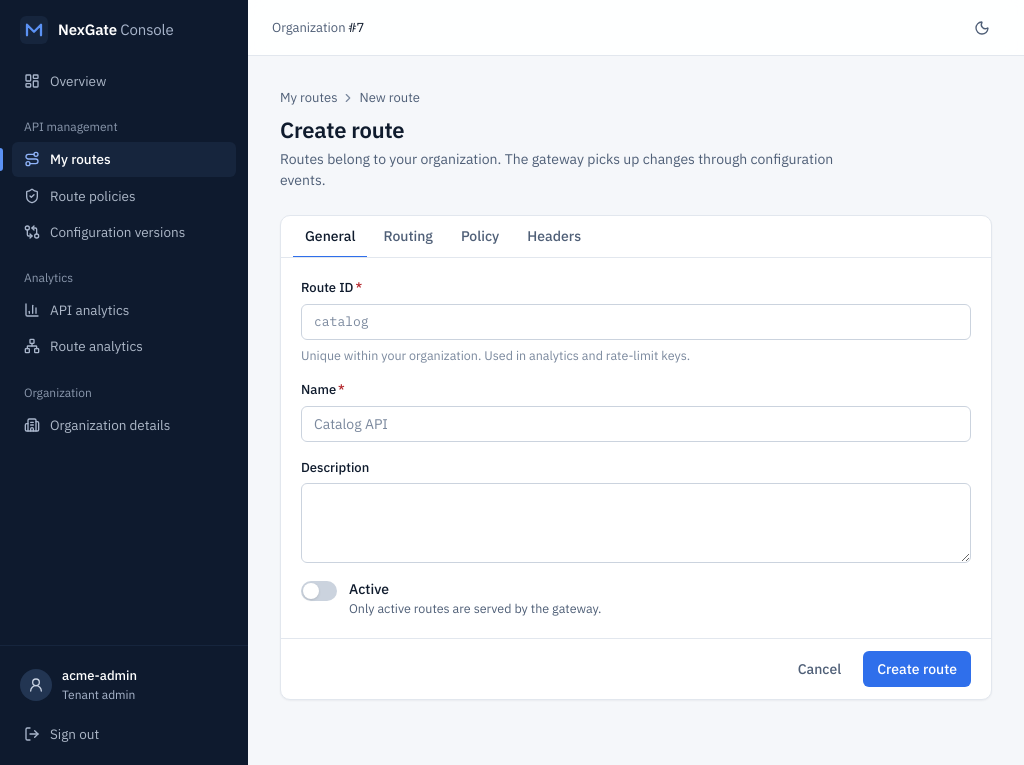
Test: tenant route management › creates a route without sending an organization ID
In the field labelled "Route ID*": (636, 322) [301, 304, 971, 340], type "orders"
In the field labelled "Name*": (636, 424) [301, 406, 971, 442], type "Orders API"
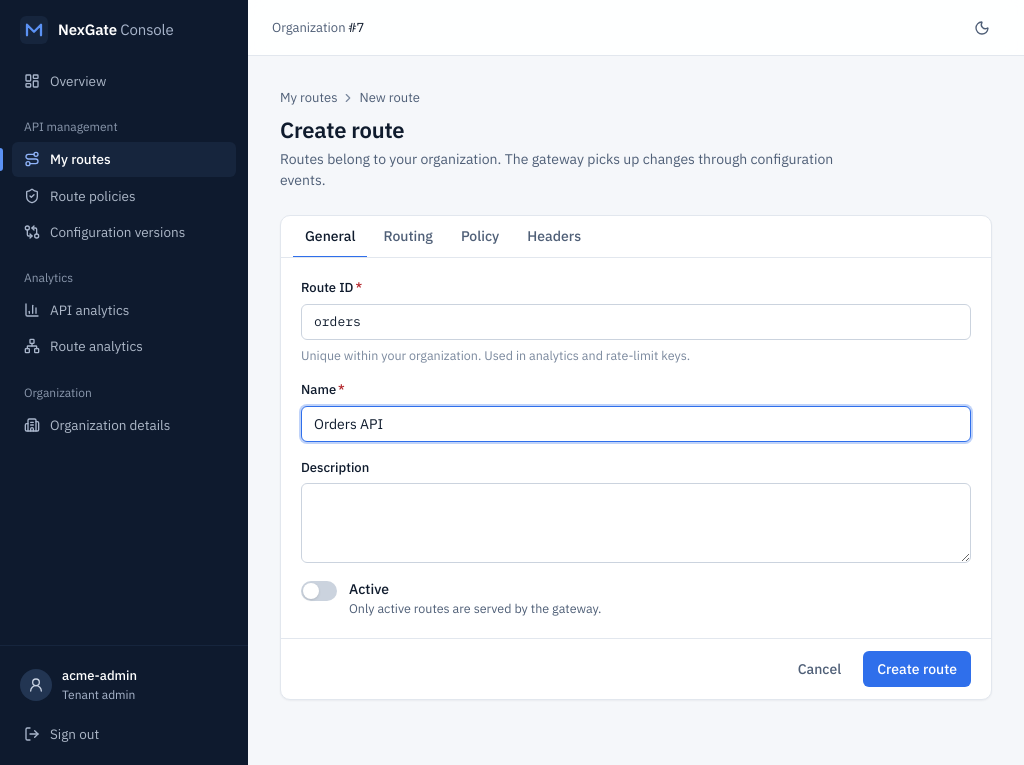
Click the tab "Routing": (408, 237) [372, 216, 445, 258]
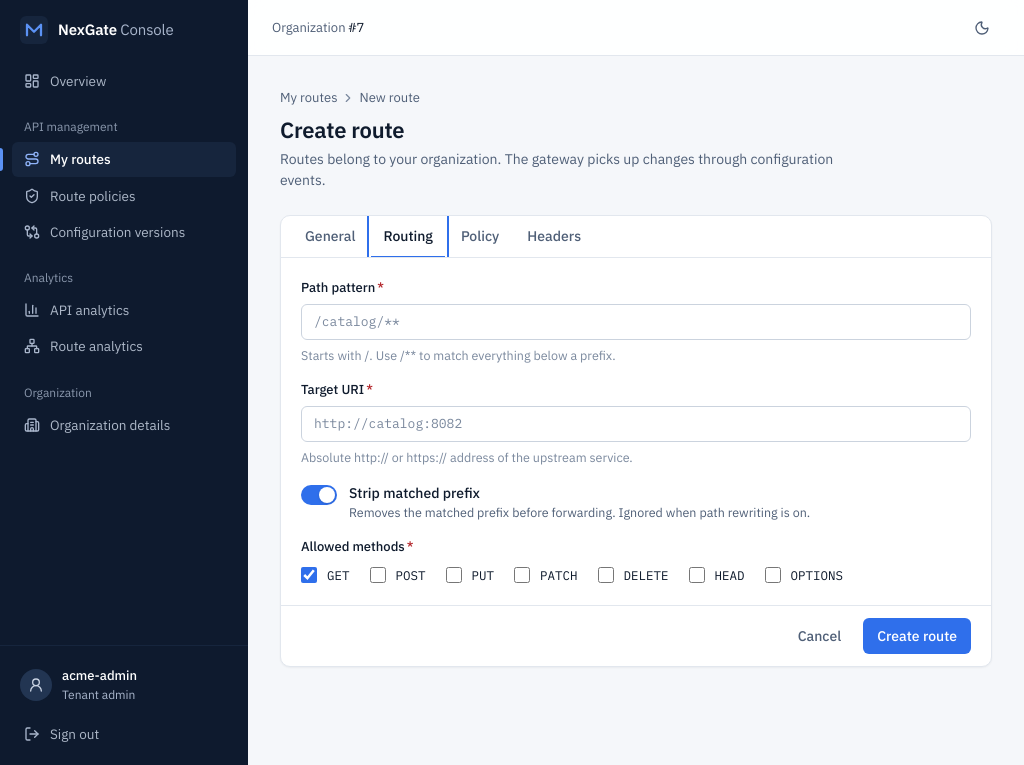
In the field labelled "Path pattern*": (636, 322) [301, 304, 971, 340], type "/orders/**"
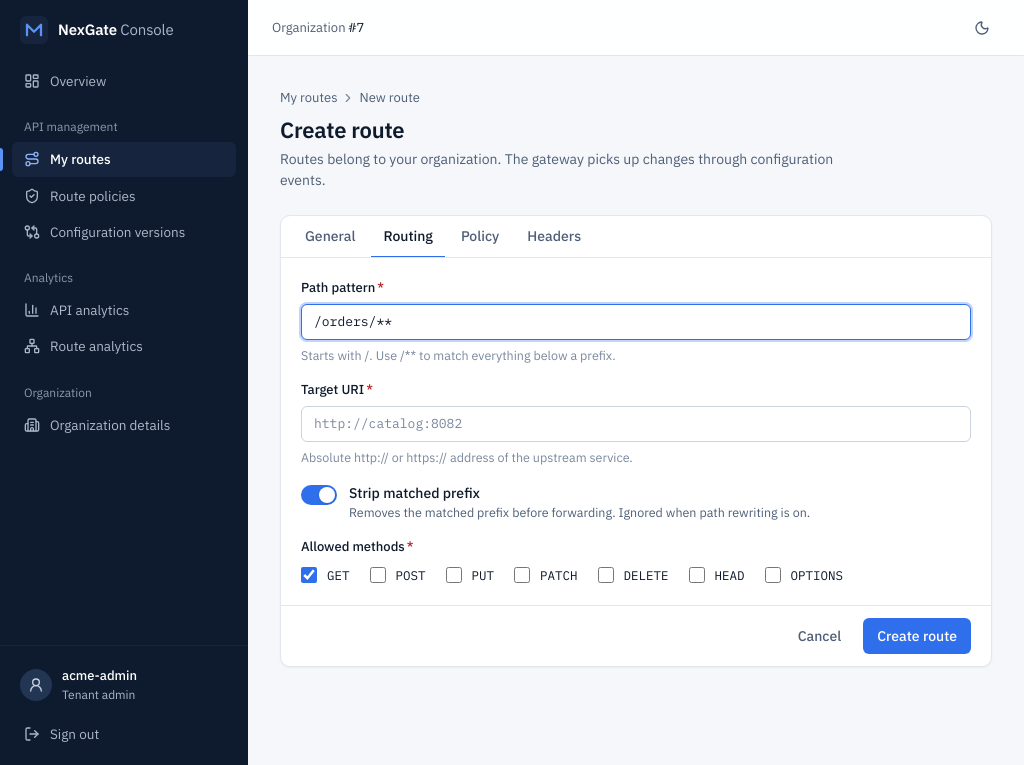
In the field labelled "Target URI*": (636, 424) [301, 406, 971, 442], type "http://order:8083"
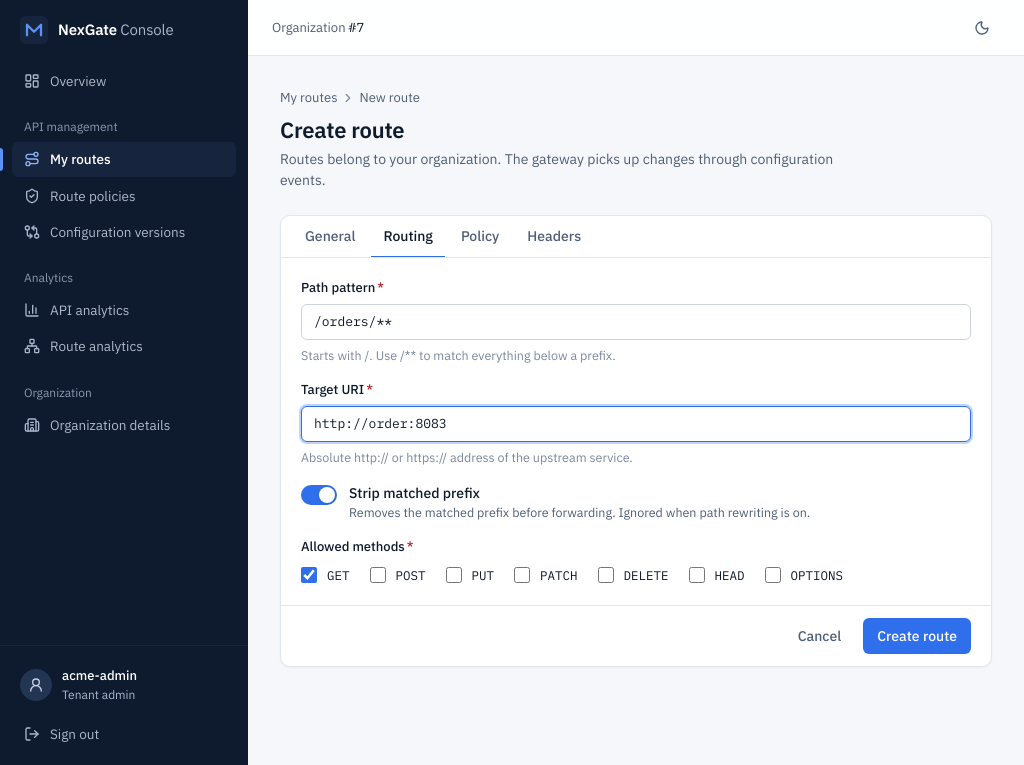
Click the checkbox labelled "POST": (378, 575) [370, 567, 386, 583]
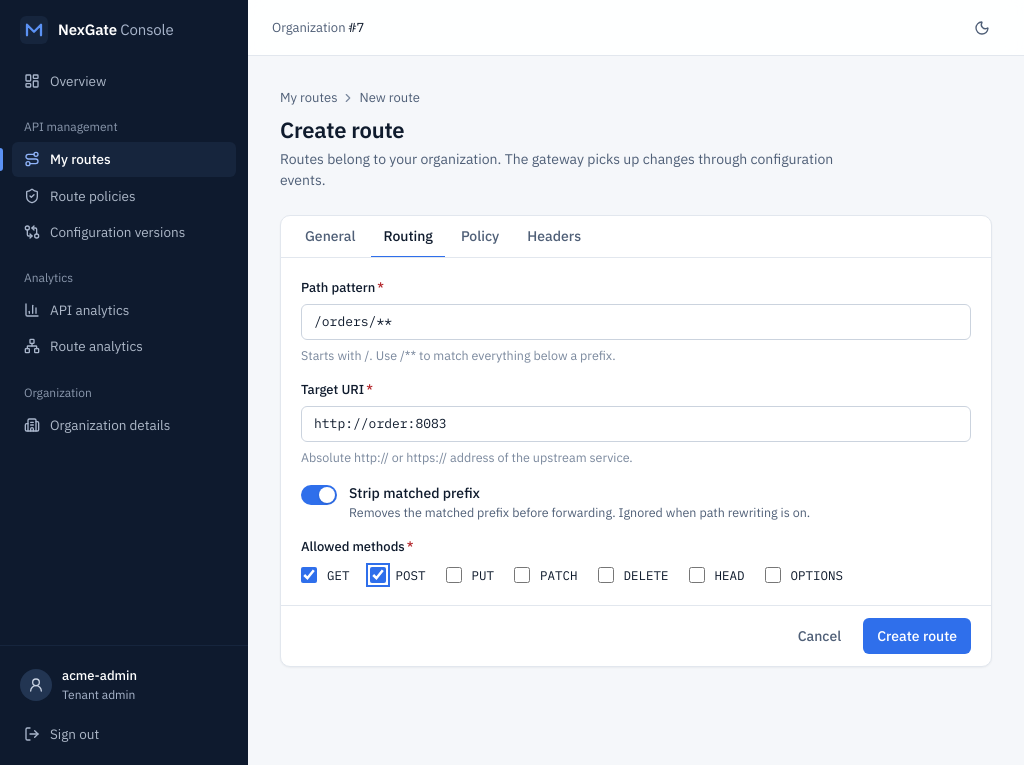
Click the button "Create route": (917, 636) [863, 618, 971, 654]
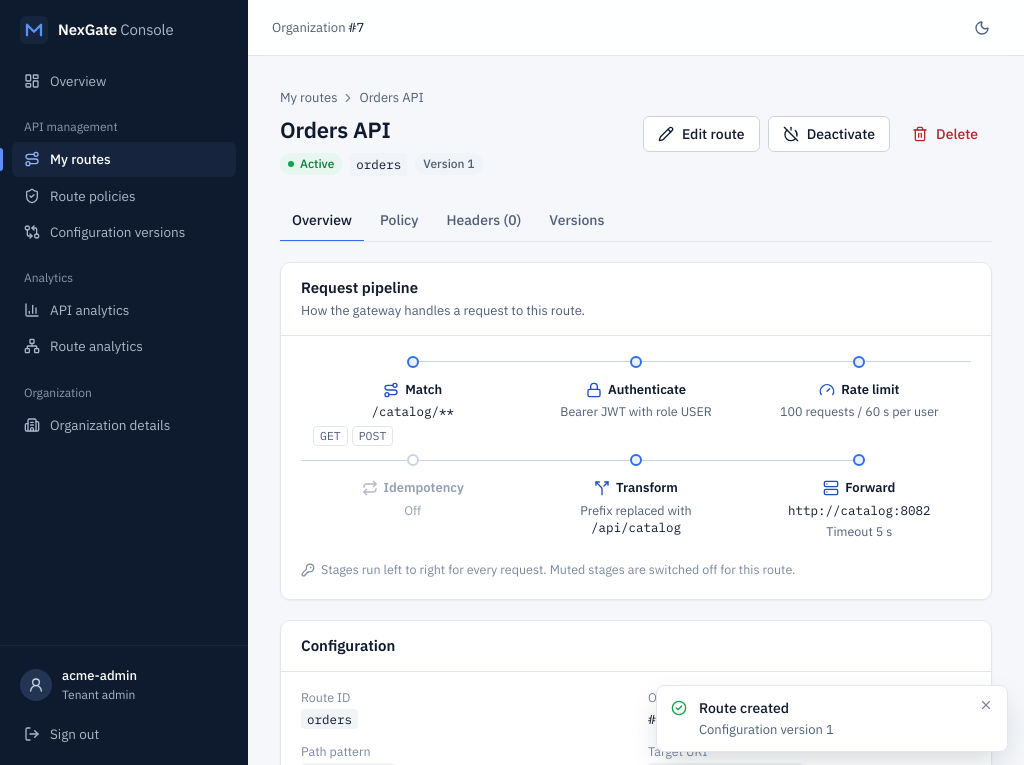
Result: the text "Route created" is shown at [699, 698, 789, 716]
